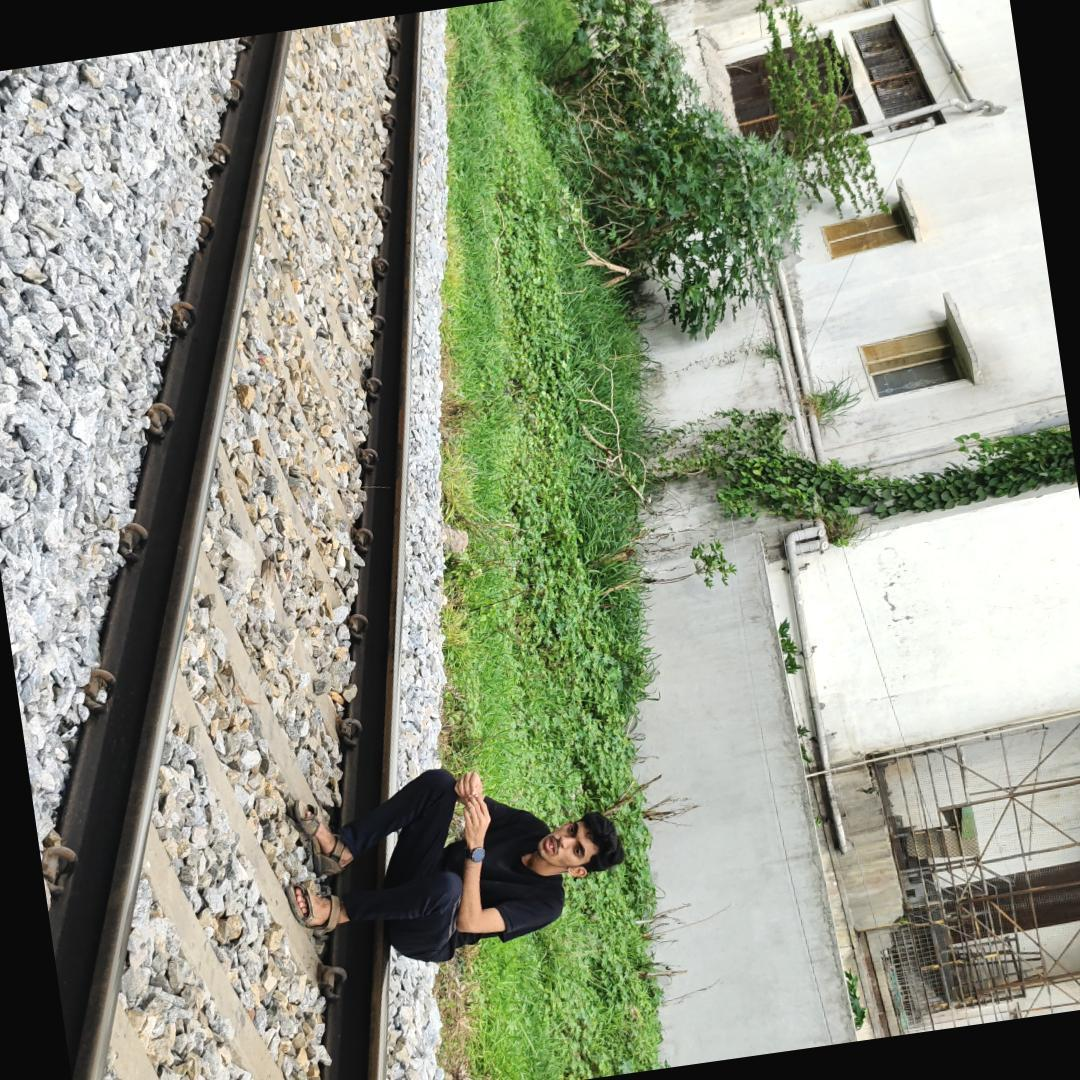sitting: (299, 745, 638, 985)
